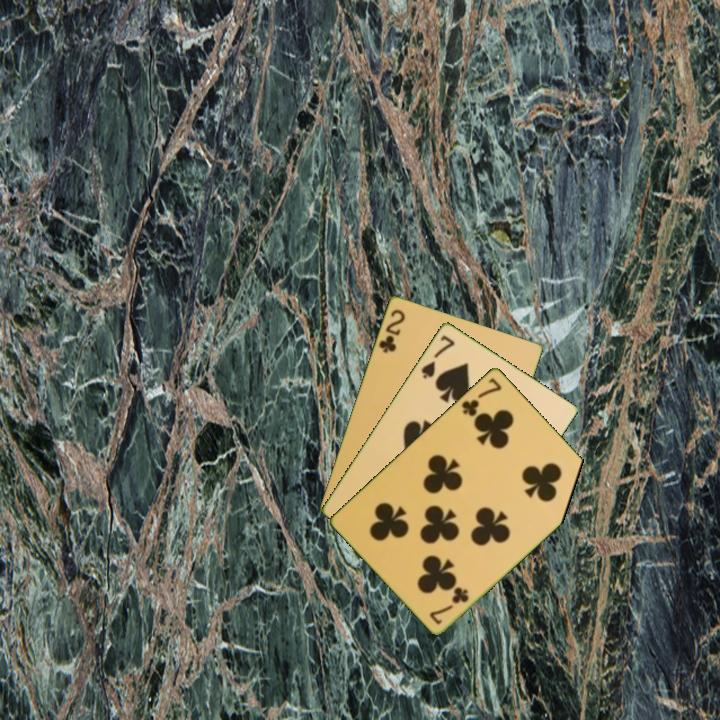2c: (375, 305, 408, 355)
7c: (458, 374, 504, 419), (426, 583, 472, 627)
7s: (417, 331, 458, 381)
